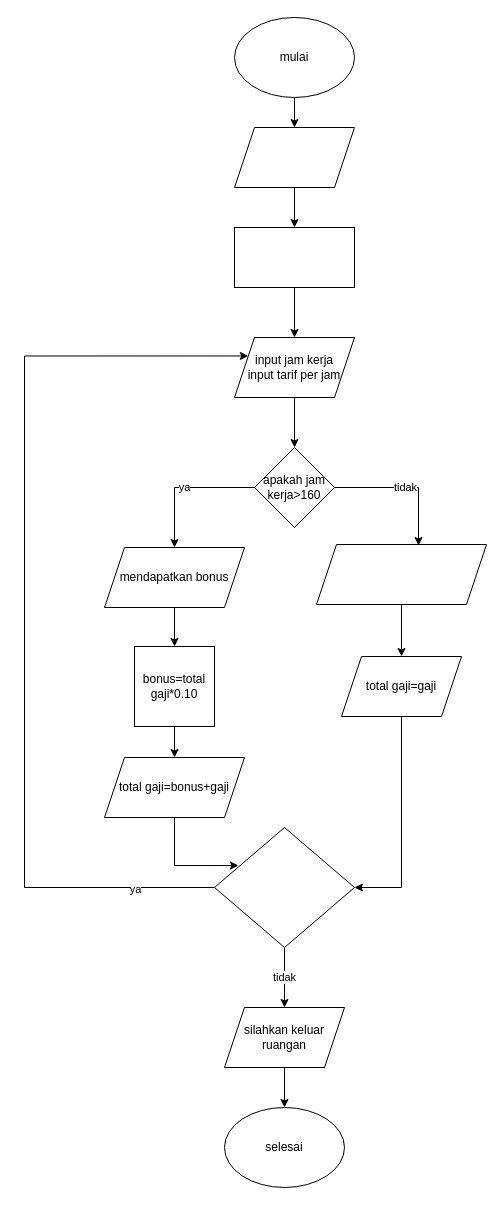
This 504x1205 diagram has some shape labels left out. Each missing label, with the box of its shape:
ingin menghitung gaji lagi?: (214, 826, 354, 948)
menampilkan biodata karyawan: (234, 226, 354, 288)
Selamat datang masukkan nama masukkan nim: (234, 126, 354, 188)
tidak mendapatkan bonus: (316, 544, 486, 604)
